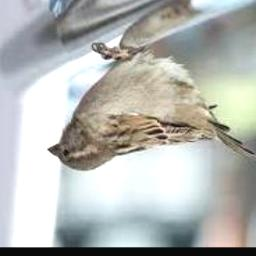Sparrow: (47, 43, 256, 170)
